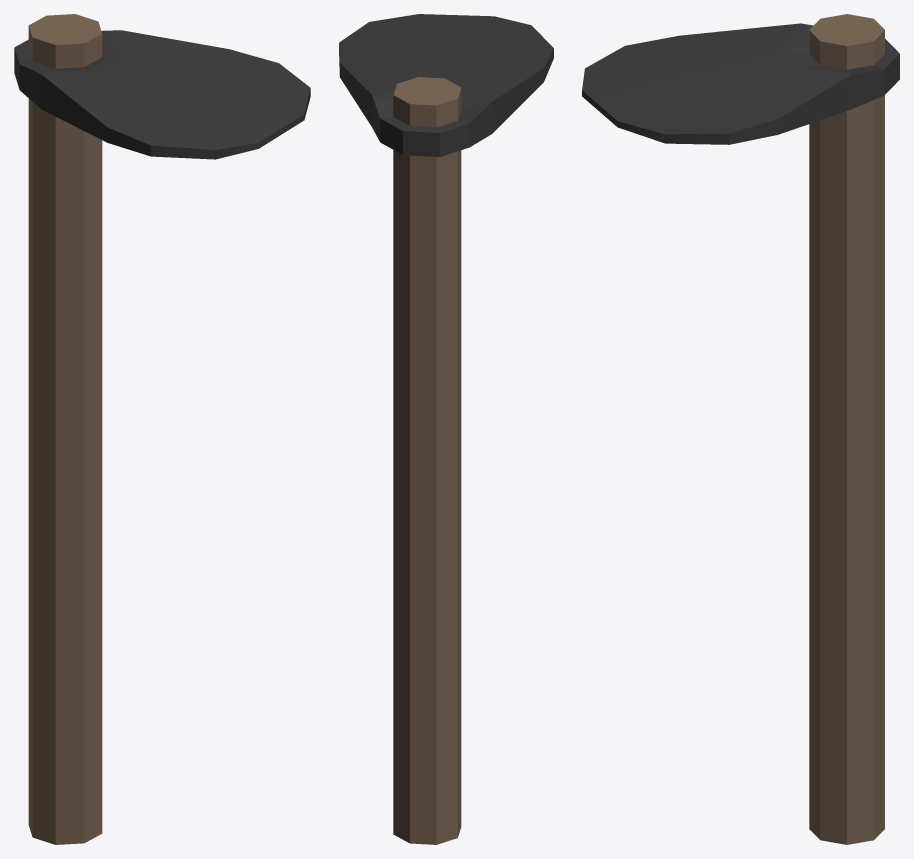
File: hoe.fbx
3 renders of one model, left to right at view 1: azimuth 30°, elevation 25°; view 2: azimuth 150°, elevation 25°; view 3: azimuth 270°, elevation 25°, orthographic. The views are drawn at different scales.
Parts seen in each view (by area): view 1: pCylinder1; view 2: pCylinder1; view 3: pCylinder1.
Part boxes in pixels (x1,y1,x2,y2): pCylinder1: (14,14,310,844); pCylinder1: (339,14,553,844); pCylinder1: (582,14,899,844).
Size of the model in its own units: 0.6506 by 2.46 by 0.8885.
